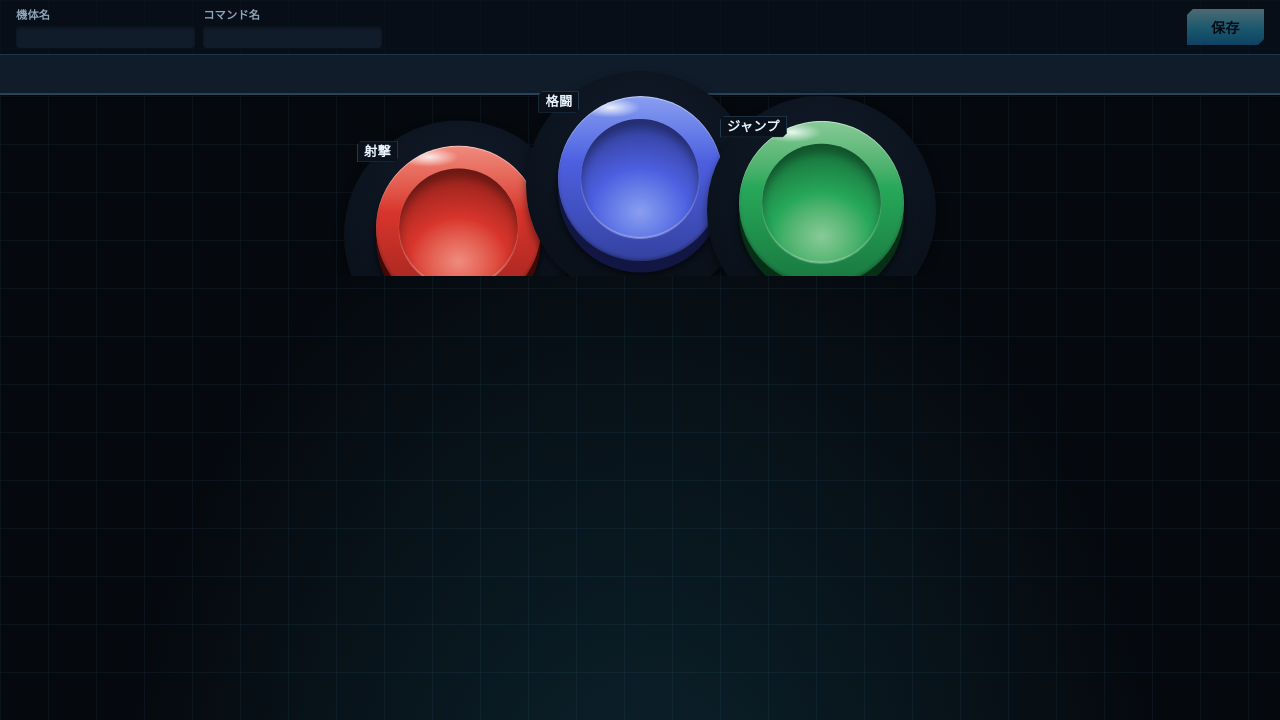
Test: CommandForm › シーケンス構築 › ボタンをタップするとシーケンスプレビューにステップが追加される
This screenshot has width=1280, height=720.
Press the mouse on the button "ジャンプ": (822, 204) [739,121,904,286]
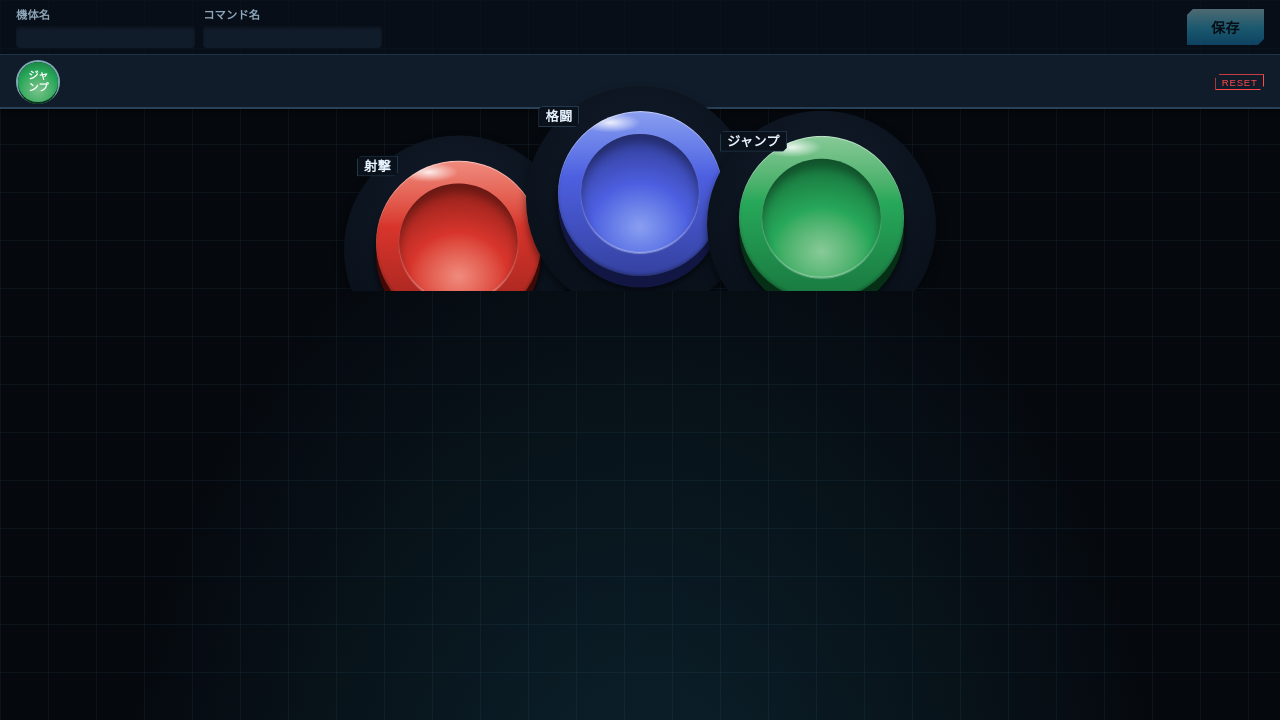
expect the element with test id "sequence-preview" is shown: met, box [18,62,58,102]
expect the element with test id "sequence-preview" shows "ジャ": met, box [28,70,49,93]
